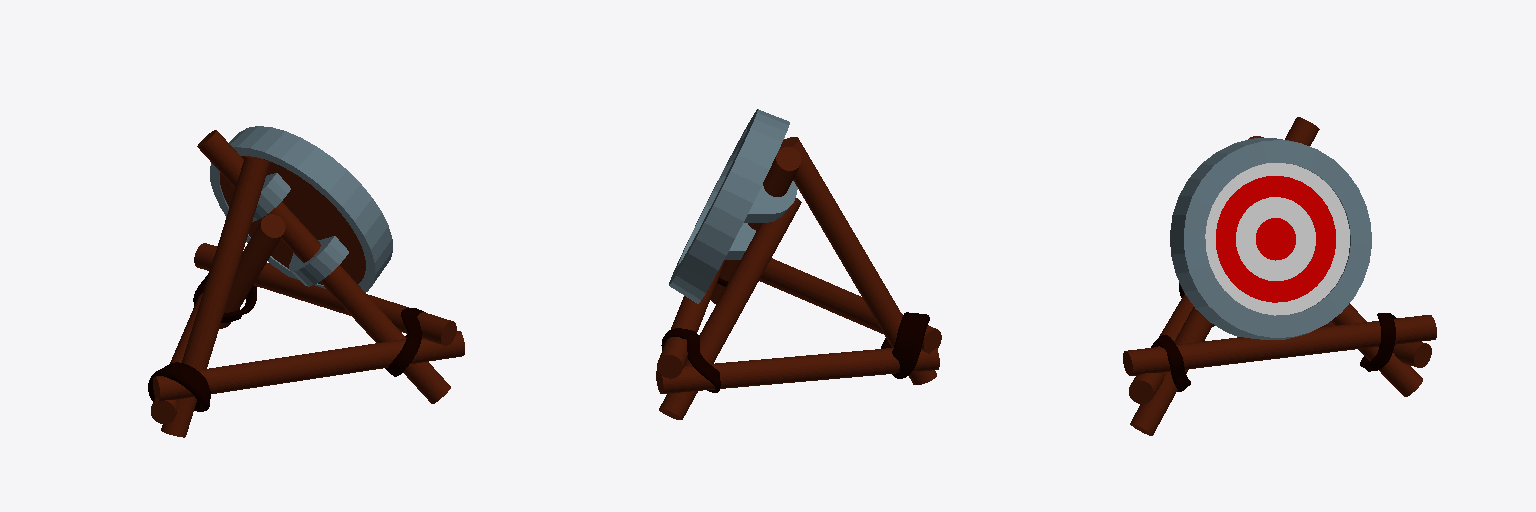
File: target.obj
3 renders of one model, left to right at view 1: azimuth 30°, elevation 25°; view 2: azimuth 150°, elevation 25°; view 3: azimuth 270°, elevation 25°, orthographic.
Parts seen in each view (by area): view 1: target; view 2: target; view 3: target.
Boxes of the visible parts, x1=… form: target: x1=148, y1=126, x2=464, y2=437; target: x1=656, y1=109, x2=941, y2=419; target: x1=1123, y1=117, x2=1436, y2=435.
Bounding box in the file's own units: 2.98 × 2.58 × 2.92.